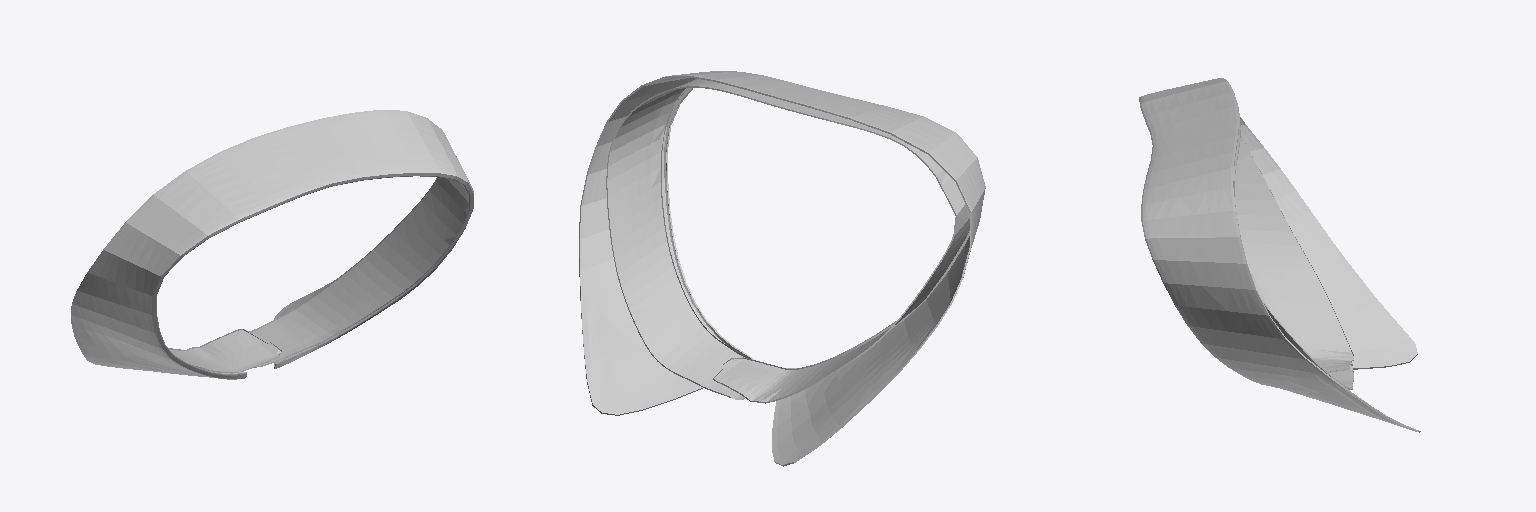
The model's file is round.obj.
3 views of the same model, side by side, from view 1: azimuth 30°, elevation 25°; view 2: azimuth 150°, elevation 25°; view 3: azimuth 270°, elevation 25° (orthographic).
Parts seen in each view (by area): view 1: 8_Round_BD, inner_collar_out; view 2: 8_Round_BD, inner_collar_out; view 3: 8_Round_BD, inner_collar_out.
Part boxes in pixels (left/top/right/bottom): 8_Round_BD: left=71, top=110, right=473, bottom=379; inner_collar_out: left=168, top=177, right=468, bottom=373; 8_Round_BD: left=579, top=71, right=985, bottom=466; inner_collar_out: left=606, top=79, right=969, bottom=403; 8_Round_BD: left=1139, top=78, right=1420, bottom=432; inner_collar_out: left=1230, top=85, right=1353, bottom=389.
Size of the model in its own units: 17.94 by 13 by 11.69.